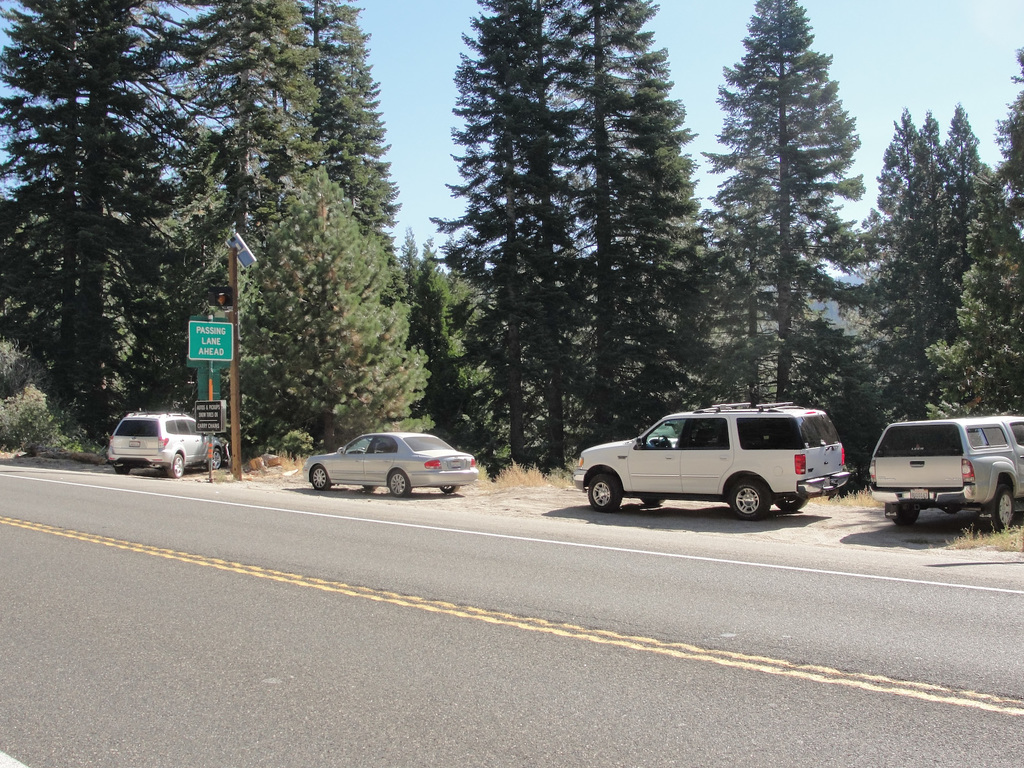cars: (572, 398, 836, 522), (859, 421, 1023, 528), (304, 429, 479, 503), (111, 413, 232, 475)
